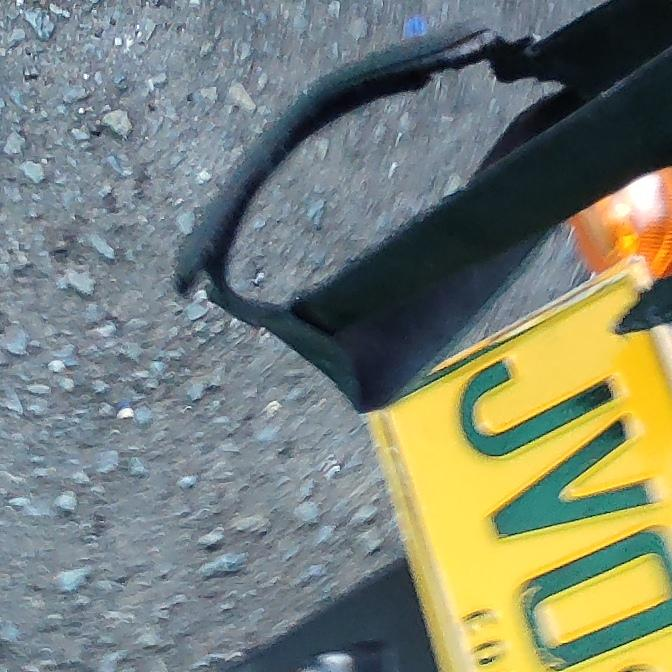plates: (369, 273, 672, 672)
